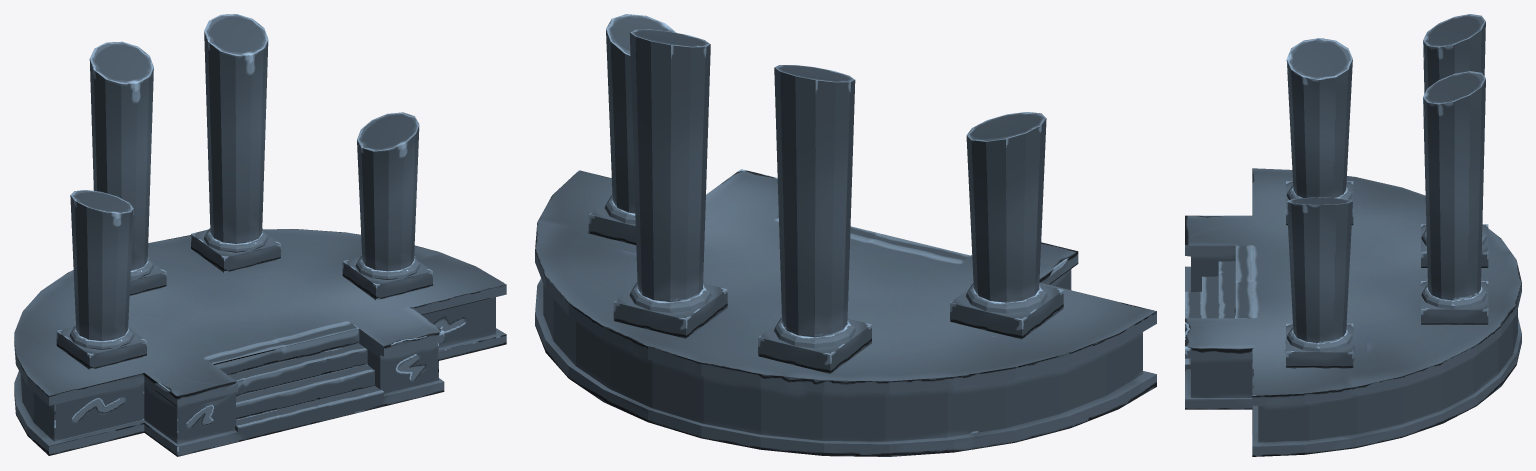
The model's file is SM_Altar.fbx.
The picture shows the model from 3 angles, left to right: view 1: azimuth 30°, elevation 25°; view 2: azimuth 150°, elevation 25°; view 3: azimuth 270°, elevation 25°; orthographic projection. The views are drawn at different scales.
Visible parts, largest first — view 1: Circle; view 2: Circle; view 3: Circle.
Part boxes in pixels (<box>): Circle: <box>14,14,506,456</box>; Circle: <box>535,14,1156,456</box>; Circle: <box>1185,14,1521,456</box>.
Size of what is drawn, in the model's own units: 1600 by 961 by 1000.
1 material, 1 textured.
